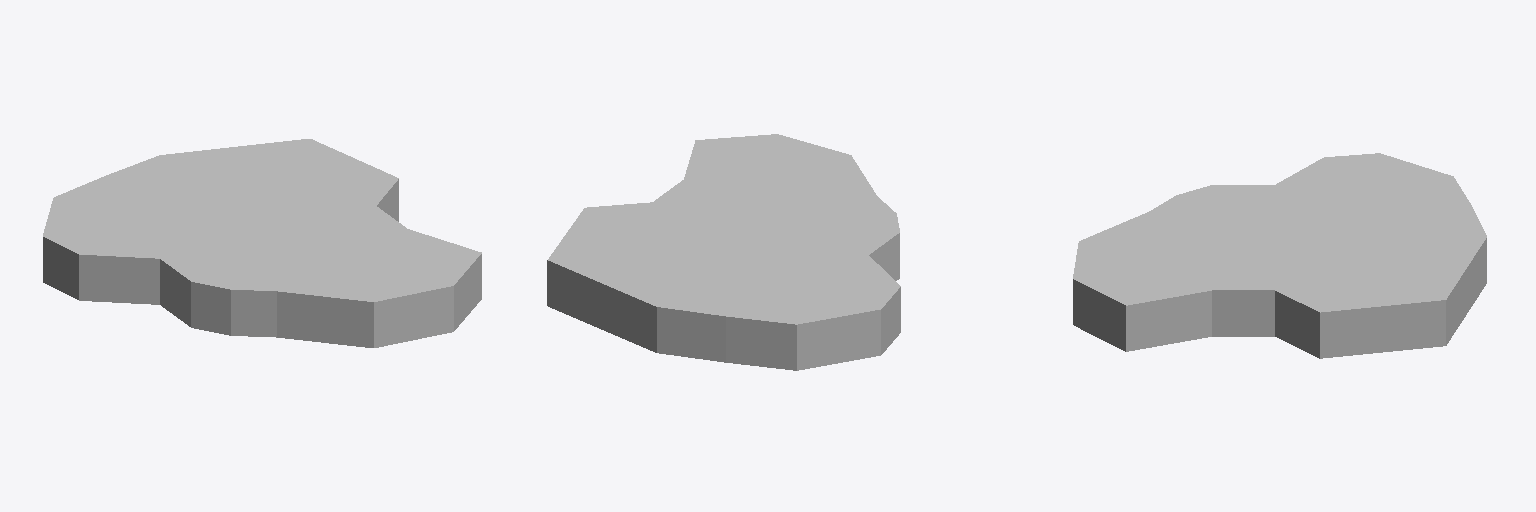
Rendered from Flat Rock_1.obj.
3 renders of one model, left to right at view 1: azimuth 30°, elevation 25°; view 2: azimuth 150°, elevation 25°; view 3: azimuth 270°, elevation 25°, orthographic.
Visible parts, largest first — view 1: Flat_Rock_1; view 2: Flat_Rock_1; view 3: Flat_Rock_1.
Boxes of the visible parts, box(x1,y1,x2,y2) form: Flat_Rock_1: box(43, 139, 481, 347); Flat_Rock_1: box(547, 134, 900, 370); Flat_Rock_1: box(1073, 153, 1486, 358).
Bounding box in the file's own units: 8.34 × 1.13 × 9.17.